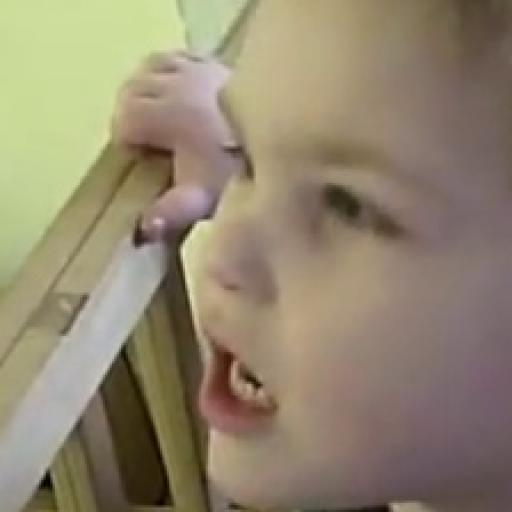Autism: (130, 2, 510, 512)
